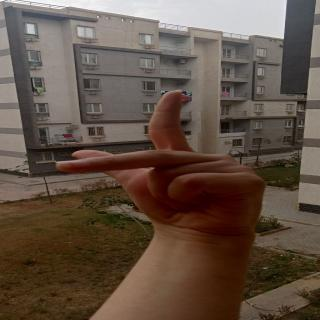DHAA: (54, 86, 276, 226)
